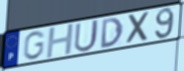9: (153, 7, 176, 40)
D: (100, 16, 125, 50)
G: (22, 29, 47, 61)
H: (45, 22, 76, 60)
U: (73, 18, 101, 54)
X: (126, 10, 152, 46)
